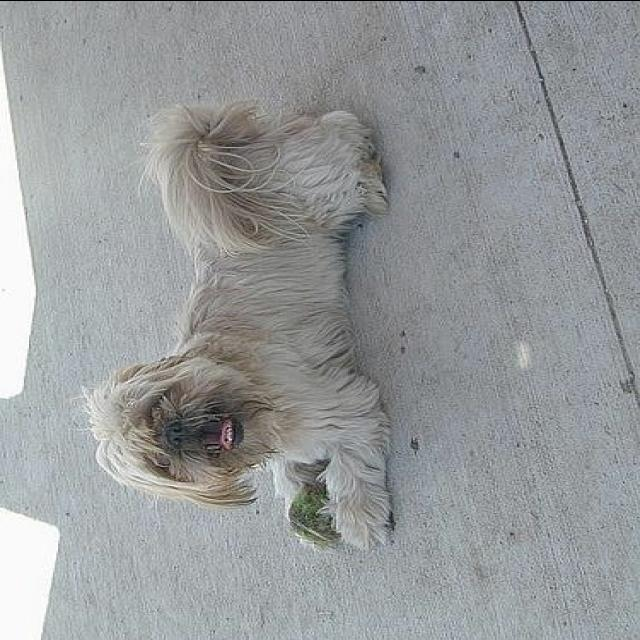shih_tzu: (78, 100, 394, 552)
